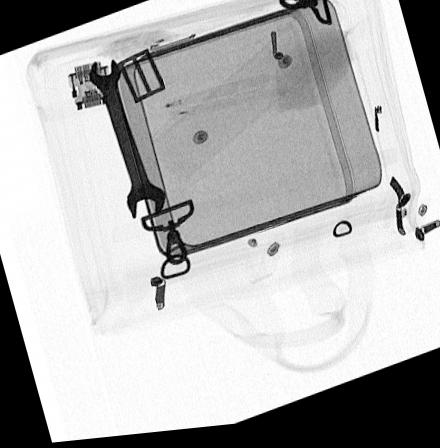Wrench: (88, 60, 166, 225)
